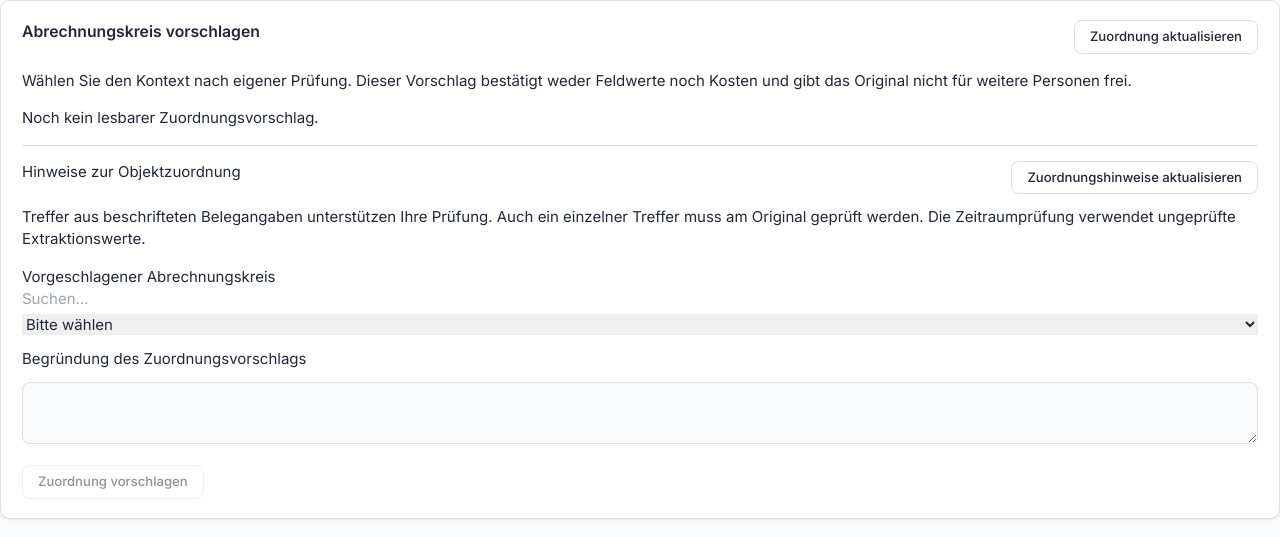
Test case: waits for initial extraction evidence without treating normal loading as an edit conflict
The width and height of the screenshot is (1280, 537).
Expected: the text "Noch kein lesbarer Zuordnungsvorschlag." is shown, [22,108,319,127]
Select "Objekt Nord · WEG" in the dropdown named "Vorgeschlagener Abrechnungskreis" at [640, 325], box [22,314,1258,335]
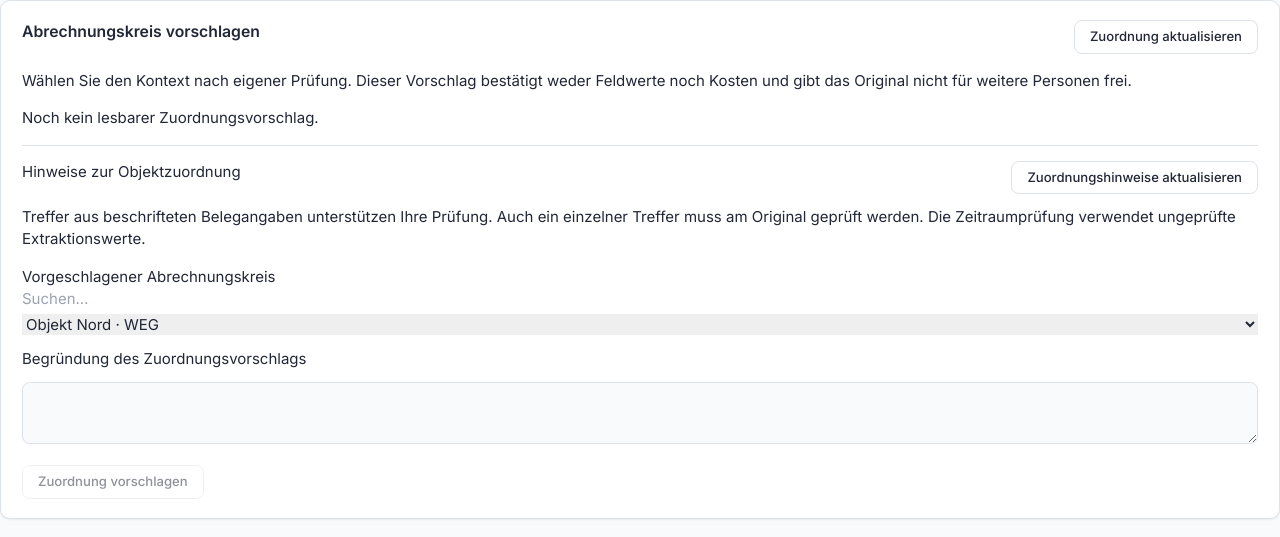
Type "Original manuell gesichtet" into the text box labelled "Begründung des Zuordnungsvorschlags" at [640, 413], box [22,382,1258,444]
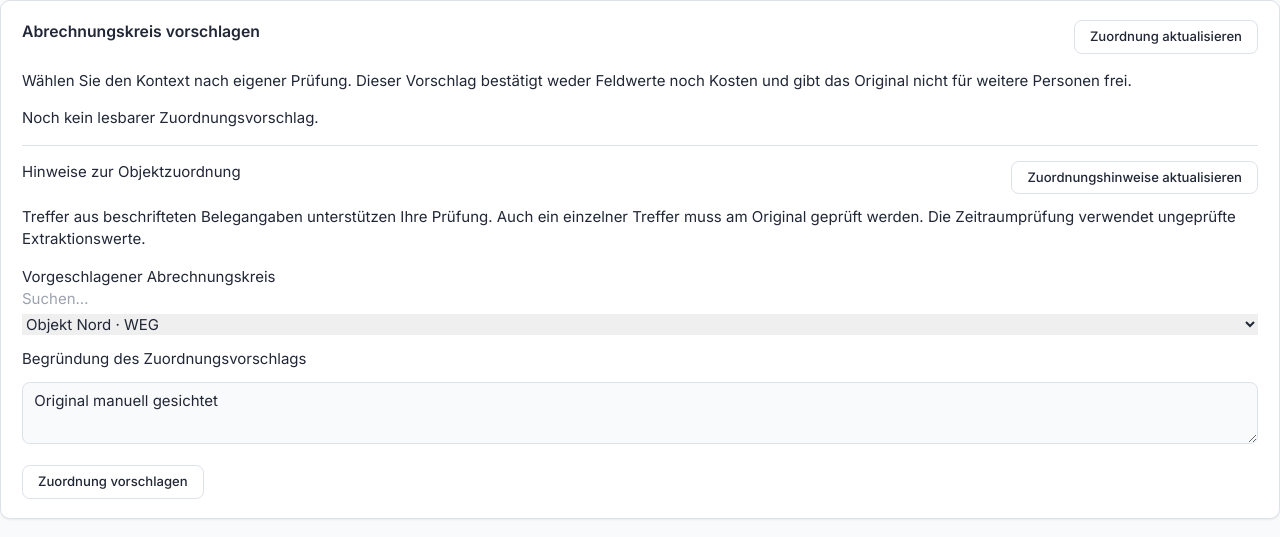
Result: the button "Zuordnung vorschlagen" is enabled at [22,465,204,499]
